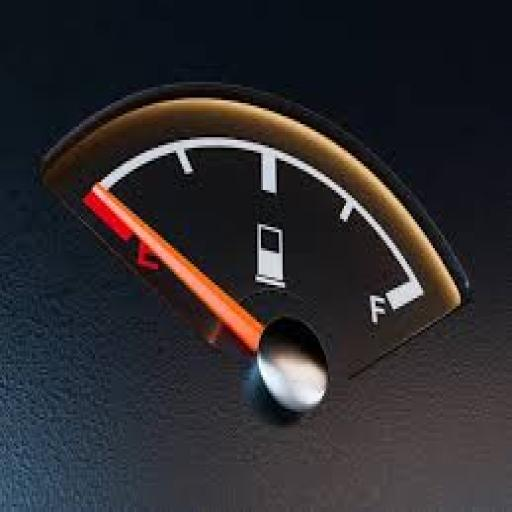fuel_icon: (245, 210, 296, 293)
full: (359, 281, 392, 339)
guage_area: (17, 74, 491, 458)
needle_center: (246, 307, 334, 428)
needle_tip: (86, 175, 119, 214)
